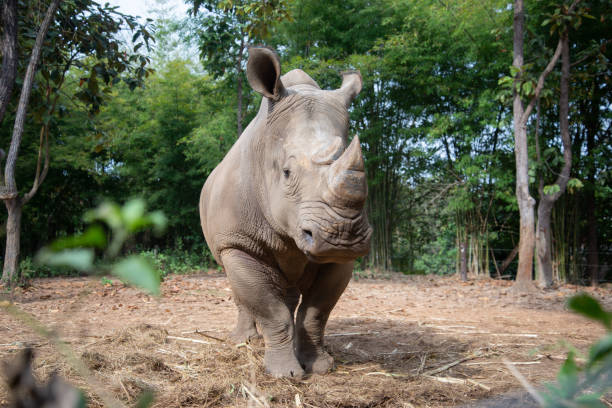rhino: (222, 39, 400, 278)
